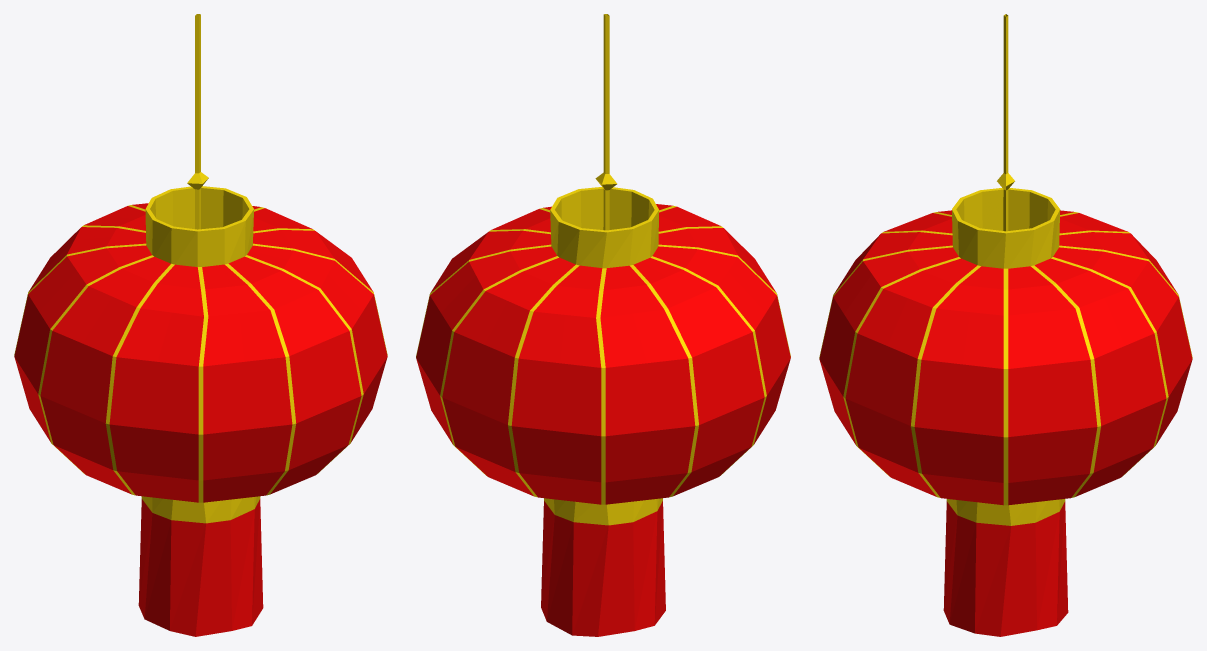
The model's file is Lantern.FBX.
3 views of the same model, side by side, from view 1: azimuth 30°, elevation 25°; view 2: azimuth 150°, elevation 25°; view 3: azimuth 270°, elevation 25° (orthographic).
Parts seen in each view (by area): view 1: Sphere003; view 2: Sphere003; view 3: Sphere003.
Part boxes in pixels (left/top/right/bottom): Sphere003: left=14, top=14, right=387, bottom=636; Sphere003: left=416, top=14, right=790, bottom=636; Sphere003: left=819, top=14, right=1192, bottom=636.
Bounding box in the file's own units: 1714 × 3023 × 1714.
